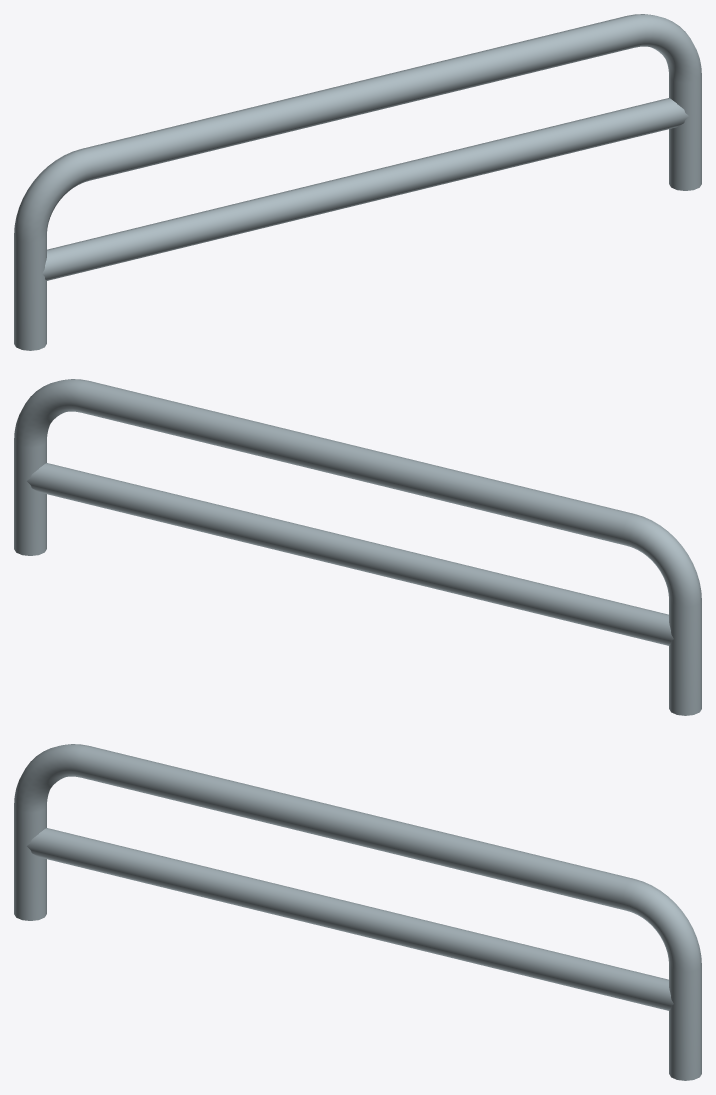
The model's file is barrierMedium-col.glb.
The picture shows the model from 3 angles, top to bottom: view 1: azimuth 30°, elevation 25°; view 2: azimuth 150°, elevation 25°; view 3: azimuth 330°, elevation 25°; orthographic projection.
Visible parts, largest first — view 1: barrierMedium-col; view 2: barrierMedium-col; view 3: barrierMedium-col.
Boxes of the visible parts, x1=… form: barrierMedium-col: x1=14, y1=14, x2=701, y2=350; barrierMedium-col: x1=14, y1=379, x2=701, y2=715; barrierMedium-col: x1=14, y1=744, x2=701, y2=1080.
Size of the model in its own units: 3.96 by 1 by 0.165.
